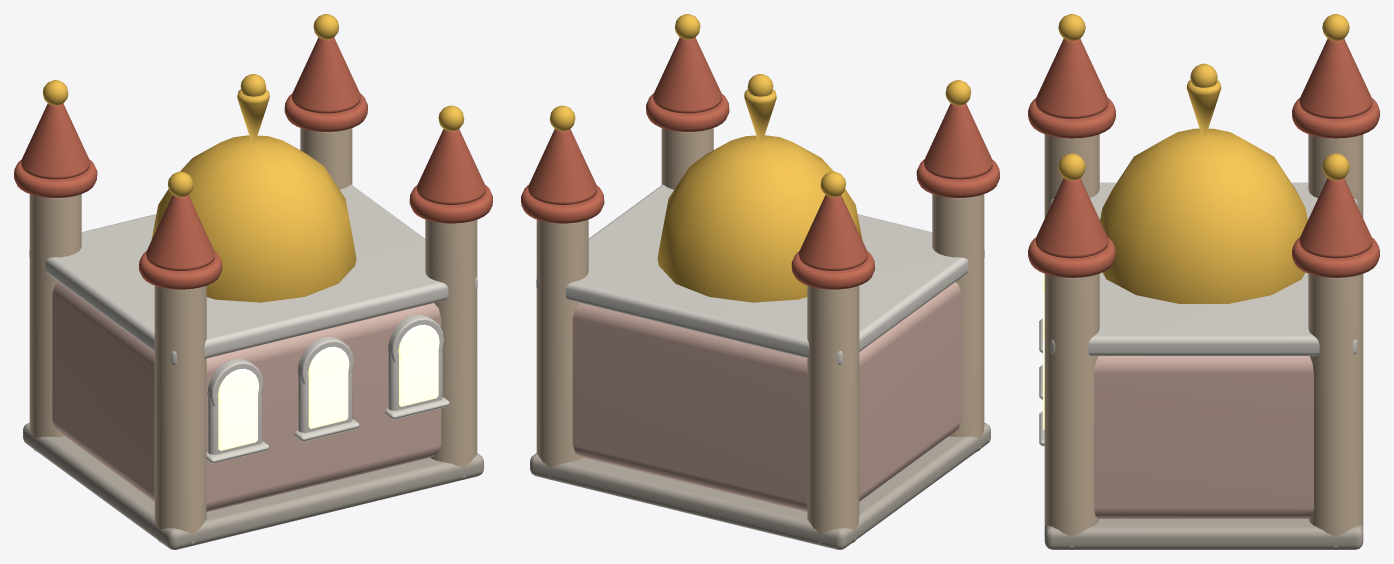
3 renders of one model, left to right at view 1: azimuth 30°, elevation 25°; view 2: azimuth 150°, elevation 25°; view 3: azimuth 270°, elevation 25°, orthographic. The views are drawn at different scales.
Visible parts, largest first — view 1: Cube; view 2: Cube; view 3: Cube.
Boxes of the visible parts, <box> form: Cube: <box>14,14,492,549</box>; Cube: <box>521,14,999,549</box>; Cube: <box>1028,14,1379,549</box>.
Size of the model in its own units: 0.76 by 0.8155 by 0.64.
